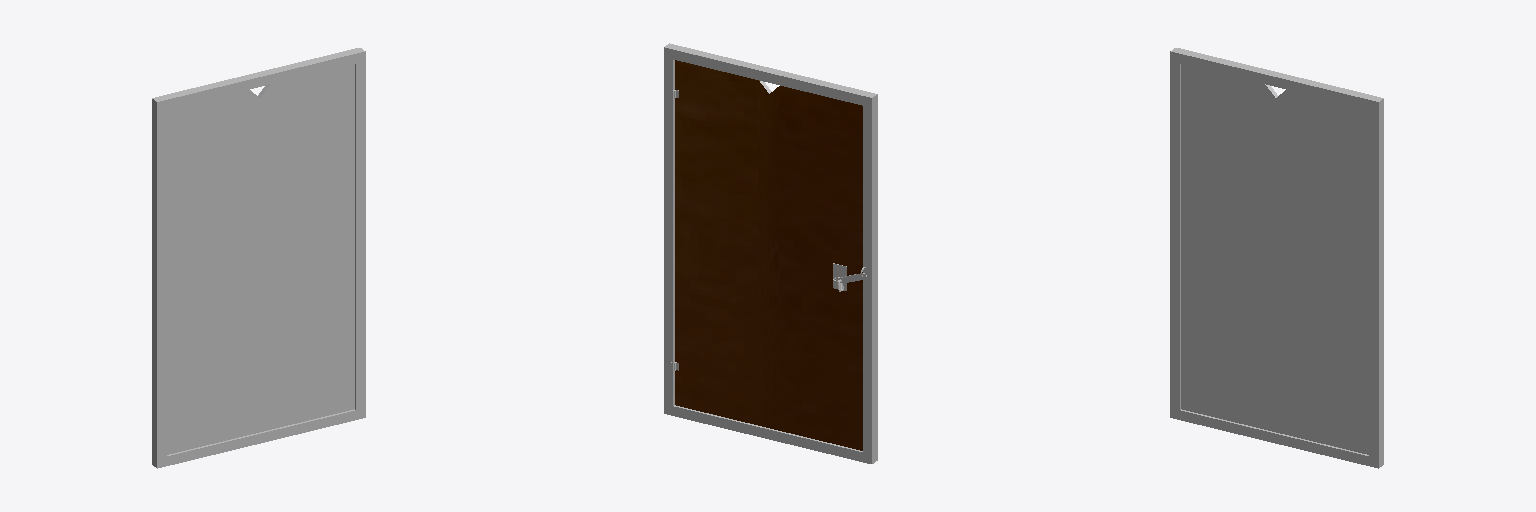
3 renders of one model, left to right at view 1: azimuth 30°, elevation 25°; view 2: azimuth 150°, elevation 25°; view 3: azimuth 330°, elevation 25°, orthographic.
Visible parts, largest first — view 1: the door, planeLeft, planeRight, planeUp, planeDown; view 2: the door, planeLeft, planeRight, planeUp, planeDown; view 3: the door, planeRight, planeLeft, planeUp, planeDown.
Boxes of the visible parts, box(x1,y1,x2,y2) form: the door: box(167, 64, 354, 454); planeLeft: box(152, 109, 166, 458); planeRight: box(355, 61, 365, 409); planeUp: box(152, 48, 365, 111); planeDown: box(152, 408, 365, 468); the door: box(675, 60, 862, 450); planeLeft: box(863, 104, 877, 454); planeRight: box(664, 57, 674, 405); planeUp: box(664, 43, 877, 107); planeDown: box(664, 404, 877, 463); the door: box(1181, 64, 1368, 454); planeRight: box(1369, 109, 1383, 458); planeLeft: box(1170, 61, 1180, 409); planeUp: box(1170, 48, 1383, 111); planeDown: box(1170, 408, 1383, 468).
Bounding box in the file's own units: 0.55 × 0.925 × 0.0503.
2 materials, 1 textured.